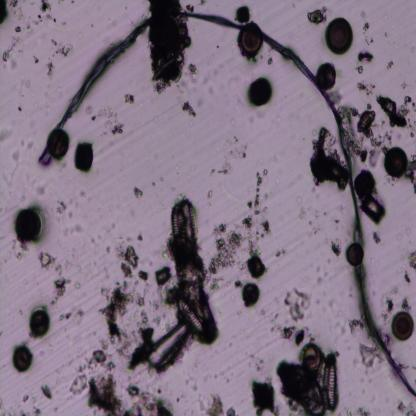Background material: (146, 0, 188, 97), (276, 354, 324, 416), (331, 89, 369, 165), (308, 125, 350, 191), (245, 166, 273, 256), (99, 280, 132, 341), (206, 220, 242, 274), (124, 381, 172, 416), (124, 325, 156, 374), (88, 374, 124, 416), (218, 127, 250, 174), (174, 256, 212, 289), (376, 95, 409, 130), (285, 283, 314, 321), (370, 128, 393, 170), (97, 105, 124, 138), (358, 102, 378, 146), (252, 384, 279, 416), (353, 342, 380, 370), (115, 238, 139, 268), (0, 34, 22, 65), (379, 284, 399, 318), (269, 318, 297, 342), (116, 330, 139, 358), (49, 277, 71, 306), (159, 281, 181, 308), (59, 306, 84, 328), (57, 253, 79, 275), (84, 350, 108, 370), (309, 208, 325, 238), (205, 391, 224, 416), (68, 374, 88, 397), (50, 38, 75, 56), (406, 154, 416, 194), (36, 252, 57, 271), (154, 268, 173, 289), (353, 78, 375, 96), (328, 233, 343, 257), (234, 4, 252, 24), (292, 326, 309, 347), (346, 316, 365, 334), (396, 399, 415, 416), (181, 97, 196, 118), (249, 351, 265, 369), (0, 399, 16, 416), (184, 374, 199, 392), (356, 51, 376, 64), (54, 198, 68, 216), (0, 0, 9, 26), (4, 243, 15, 264), (382, 321, 392, 344), (121, 262, 134, 279), (64, 225, 84, 236), (0, 125, 13, 141), (401, 296, 413, 313), (348, 408, 373, 416), (15, 244, 26, 262), (42, 382, 52, 401), (335, 323, 348, 337), (406, 251, 416, 269), (40, 0, 52, 15), (372, 228, 382, 246), (190, 62, 199, 81), (122, 93, 136, 105), (135, 292, 146, 307), (242, 54, 260, 63), (196, 396, 206, 412), (97, 338, 109, 351), (12, 9, 26, 20), (185, 2, 197, 14), (140, 308, 148, 326), (12, 146, 21, 162), (45, 62, 55, 76), (134, 186, 144, 199), (299, 207, 309, 220), (84, 104, 94, 116), (403, 270, 411, 285), (225, 407, 237, 416), (33, 405, 42, 416), (355, 63, 364, 74), (144, 282, 151, 296), (154, 314, 162, 326), (108, 363, 116, 375), (151, 300, 159, 311), (8, 0, 19, 8), (19, 409, 31, 416), (207, 85, 214, 97), (297, 193, 303, 207), (276, 249, 286, 257), (138, 272, 148, 280), (77, 366, 87, 374), (104, 267, 110, 279), (13, 25, 22, 33), (22, 393, 30, 402), (387, 59, 394, 69), (27, 141, 35, 149), (136, 234, 144, 242), (404, 95, 412, 103), (206, 189, 213, 198), (401, 82, 407, 92), (409, 130, 416, 138), (78, 191, 86, 198), (235, 280, 242, 288), (26, 20, 31, 31), (338, 309, 344, 318), (33, 54, 39, 63), (74, 280, 80, 289), (24, 79, 30, 88), (107, 244, 112, 254), (209, 169, 216, 176), (164, 323, 171, 330), (258, 308, 266, 314), (37, 15, 43, 23), (40, 188, 46, 196), (20, 138, 26, 146), (52, 406, 58, 414), (316, 278, 324, 284), (156, 388, 162, 395), (269, 58, 274, 66), (31, 396, 36, 404), (119, 165, 124, 173), (274, 312, 279, 320), (56, 88, 62, 94), (57, 0, 64, 5), (31, 120, 35, 128), (70, 196, 74, 204), (16, 310, 24, 314), (112, 222, 116, 230), (67, 212, 73, 217), (335, 219, 339, 226), (60, 22, 67, 26), (200, 0, 205, 5), (151, 182, 156, 187), (47, 15, 53, 19), (18, 106, 22, 112), (90, 22, 94, 28), (176, 397, 180, 403), (135, 280, 139, 285), (71, 0, 75, 5), (160, 177, 164, 182), (92, 116, 96, 120), (208, 202, 212, 206), (76, 201, 78, 208), (35, 22, 38, 26), (110, 354, 113, 358), (94, 332, 96, 336), (54, 18, 56, 22), (35, 103, 37, 107)
Cotton: (39, 13, 416, 397)
Diatom: (172, 279, 220, 344), (165, 194, 200, 271), (149, 324, 186, 368), (11, 210, 48, 249), (322, 350, 342, 412), (325, 14, 354, 54), (236, 22, 265, 54), (298, 340, 322, 375), (246, 76, 273, 107), (384, 144, 407, 179), (390, 310, 415, 342), (360, 196, 386, 226), (354, 170, 377, 200), (48, 127, 68, 160), (74, 144, 96, 174), (12, 344, 35, 372), (317, 60, 338, 90), (30, 309, 50, 338), (345, 243, 364, 267), (242, 284, 262, 306), (248, 257, 266, 279)
